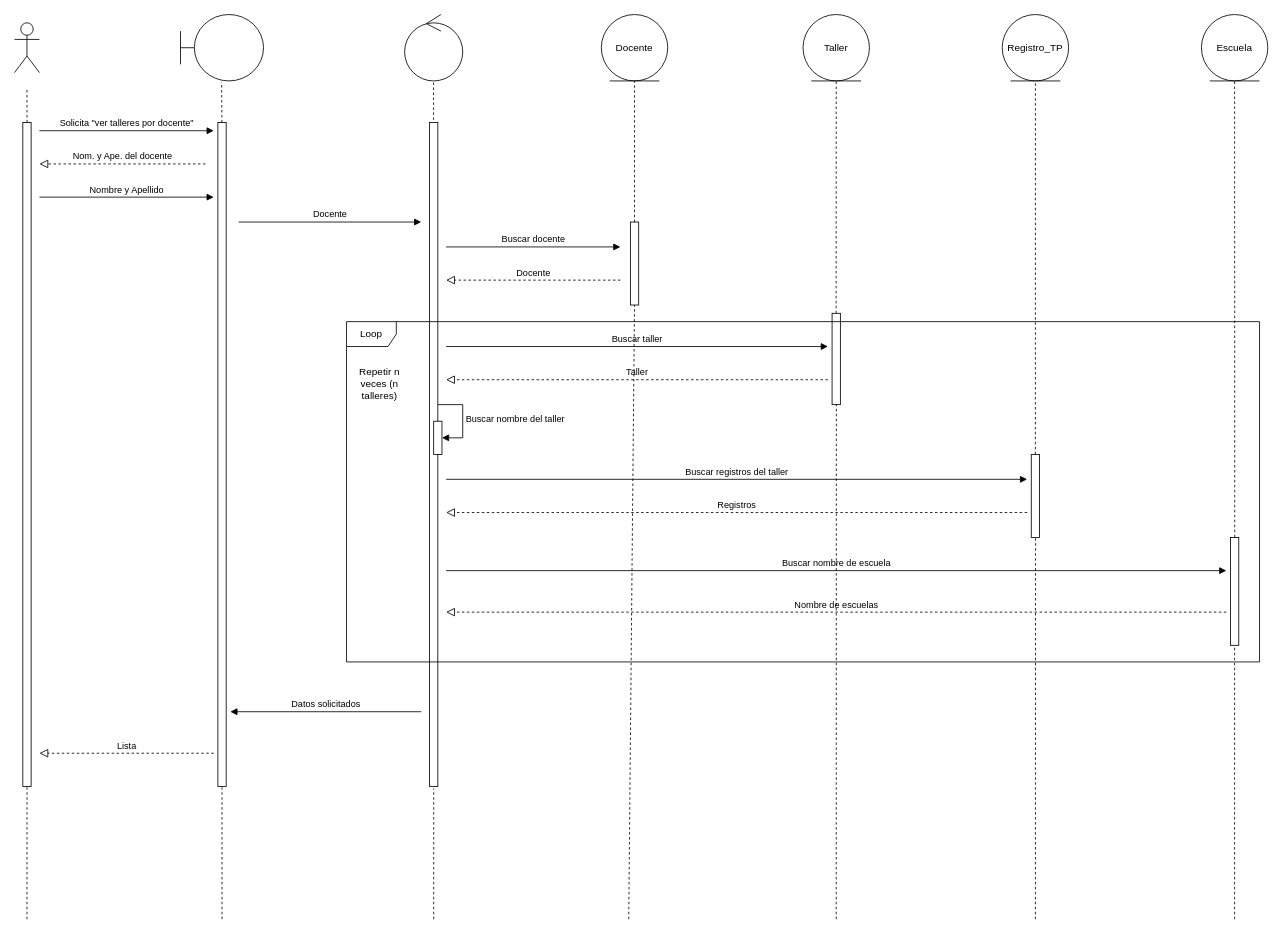
The diagram is 1282 pixels wide and 935 high, and some of its shapes have lost their labels. The centre of each missing label's shape, as x and y in pixels:
"Actor" goes at pixel 26 47.
"Control" goes at pixel 433 47.
"Interfaz" goes at pixel 222 47.
